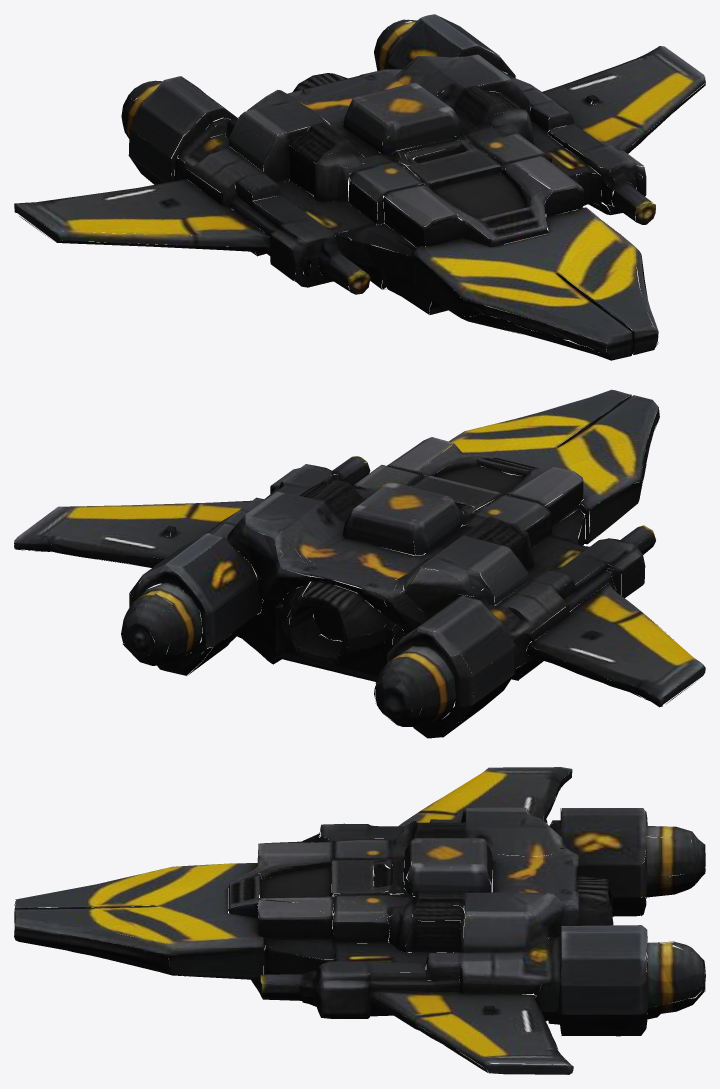
Rendered from valkyr-fighter.glb.
3 renders of one model, top to bottom at view 1: azimuth 30°, elevation 25°; view 2: azimuth 150°, elevation 25°; view 3: azimuth 270°, elevation 25°, orthographic. The views are drawn at different scales.
Visible parts, largest first — view 1: world; view 2: world; view 3: world.
Part boxes in pixels (bbox=[...]): world: bbox=[14, 14, 705, 360]; world: bbox=[14, 389, 705, 738]; world: bbox=[14, 767, 705, 1074].
Size of the model in its own units: 1 by 0.2107 by 0.9822.
1 material, 1 textured.
